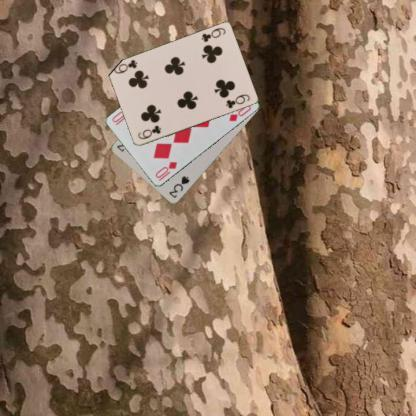10d: (152, 160, 178, 182)
3s: (166, 173, 190, 200)
6c: (198, 26, 226, 43), (136, 122, 162, 140)
